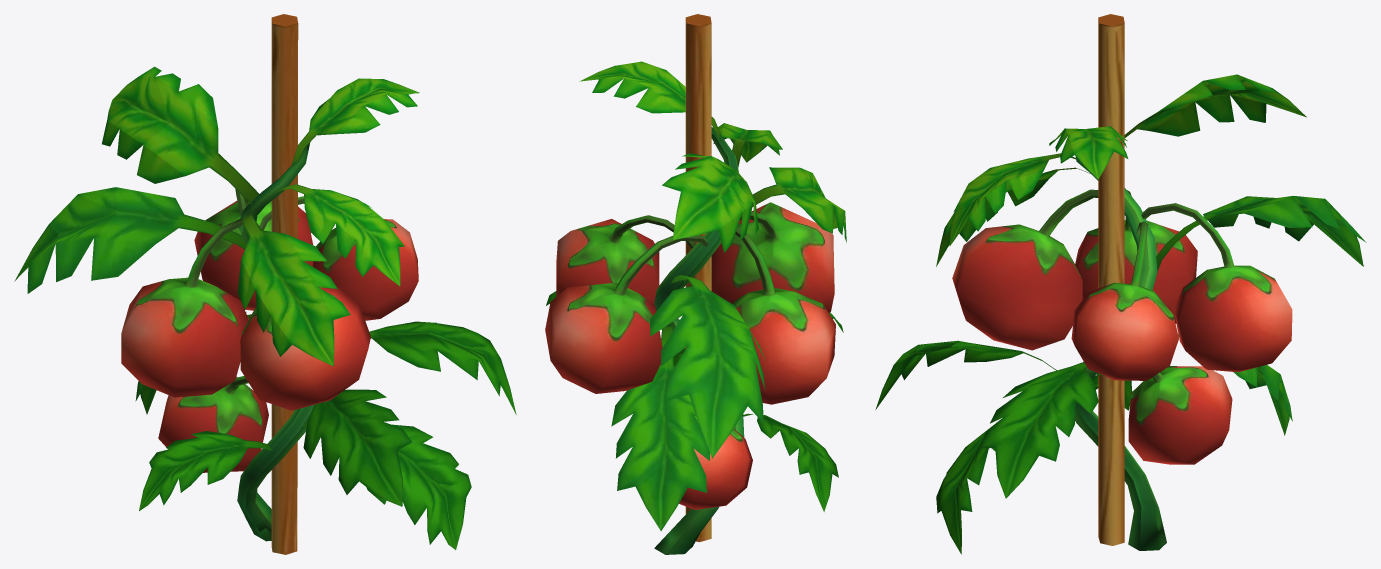
Rendered from tomato_lv3.glb.
3 views of the same model, side by side, from view 1: azimuth 30°, elevation 25°; view 2: azimuth 150°, elevation 25°; view 3: azimuth 270°, elevation 25° (orthographic). The views are drawn at different scales.
Visible parts, largest first — view 1: SM_Tomato_Lv3_Tomato_SG_0; view 2: SM_Tomato_Lv3_Tomato_SG_0; view 3: SM_Tomato_Lv3_Tomato_SG_0.
Part boxes in pixels (x1,y1,x2,y2): SM_Tomato_Lv3_Tomato_SG_0: [14, 14, 516, 554]; SM_Tomato_Lv3_Tomato_SG_0: [545, 14, 846, 554]; SM_Tomato_Lv3_Tomato_SG_0: [875, 14, 1366, 554].
Size of the model in its own units: 0.3261 by 0.4748 by 0.4069.
Materials: 1 (1 with a texture image).
